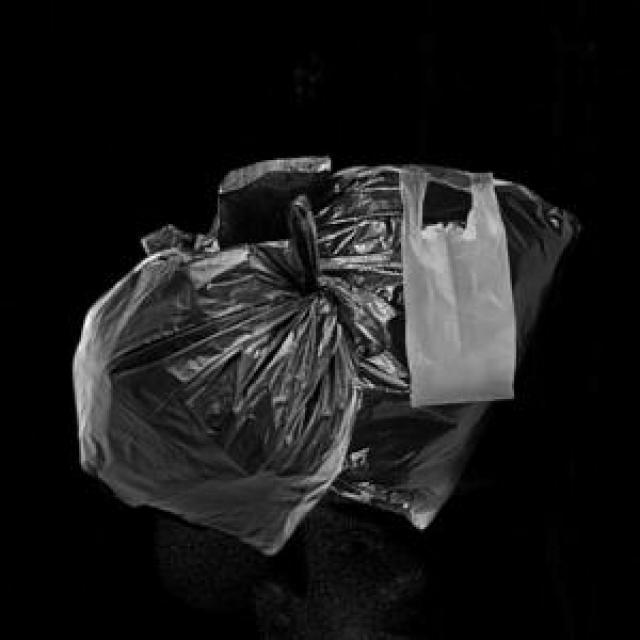miscellaneous trash: (137, 154, 576, 525), (70, 192, 386, 550)
